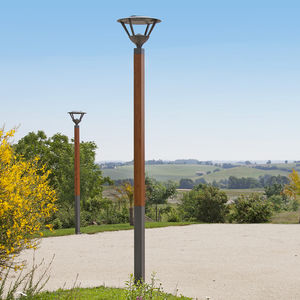light_pole: (126, 30, 152, 294), (70, 115, 86, 234)
